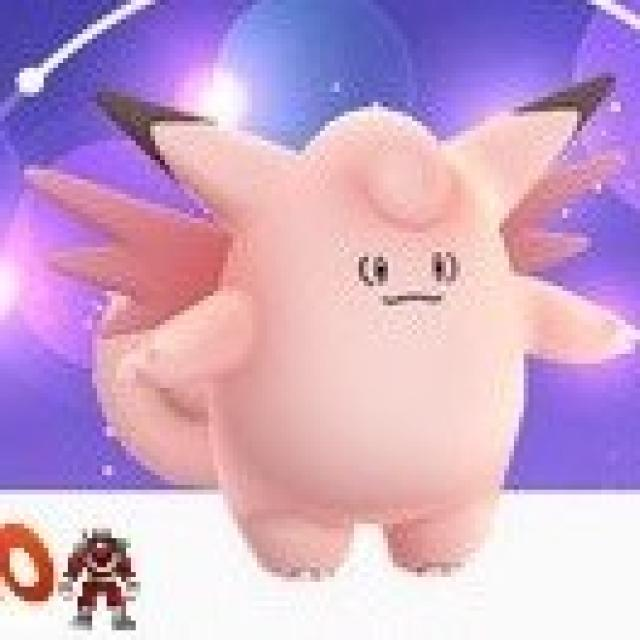Clefable: (168, 101, 576, 568)
